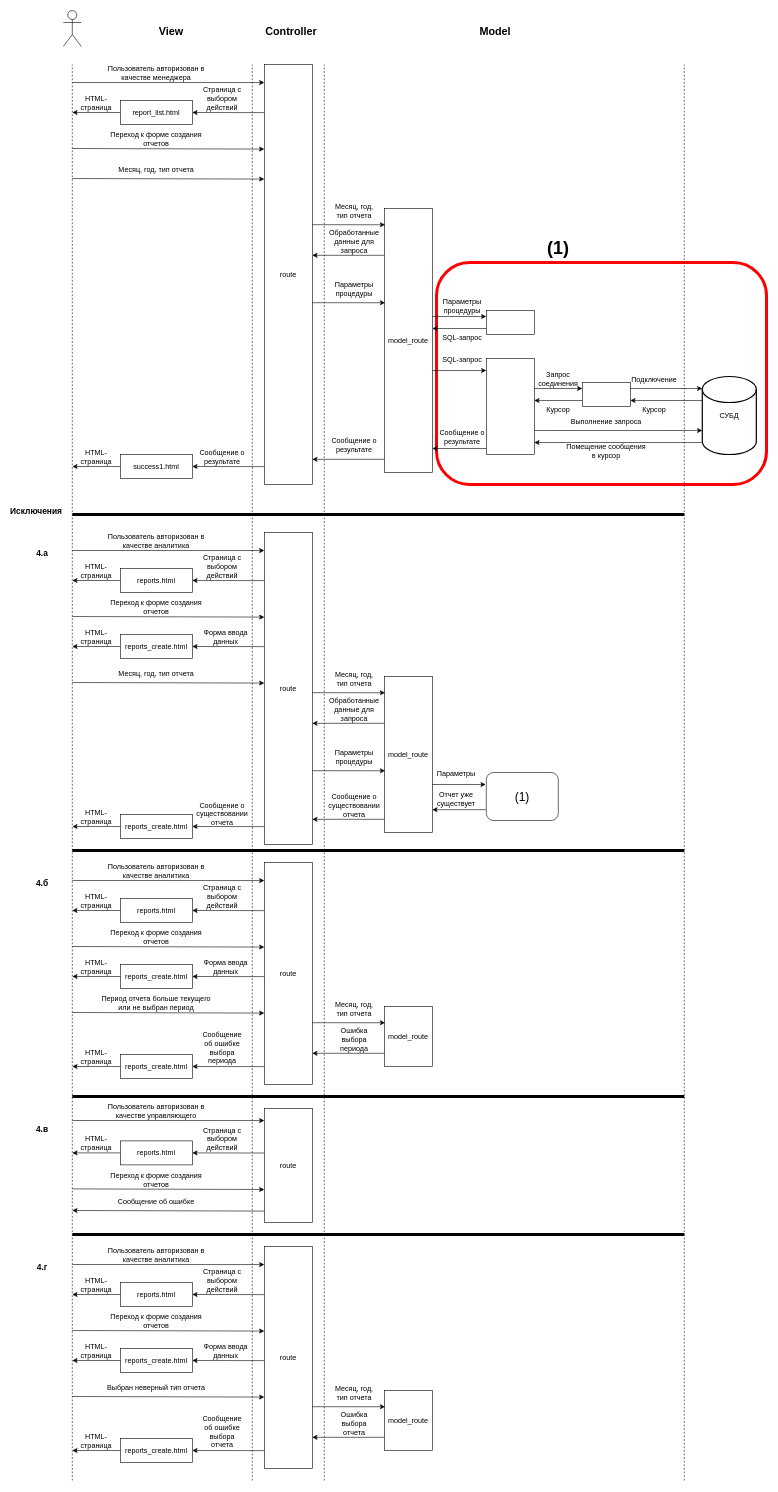
Some shapes in this 778 by 1492 pixel diagram are drawn without their labels. The centre of each missing label's shape, as x and y in pixels:
"call_proc" goes at point 510,406.
"DBcm" goes at point 606,394.
"sql_provider" goes at point 510,322.
"Пользователь" goes at point 72,28.
